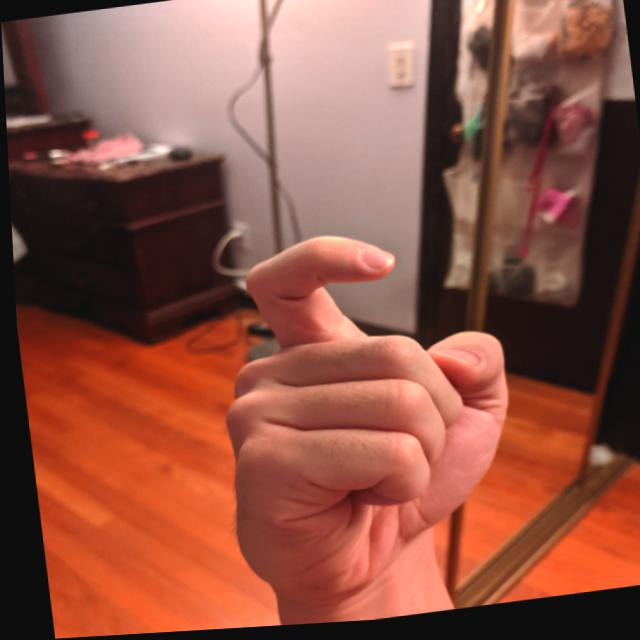X: (192, 214, 534, 601)
